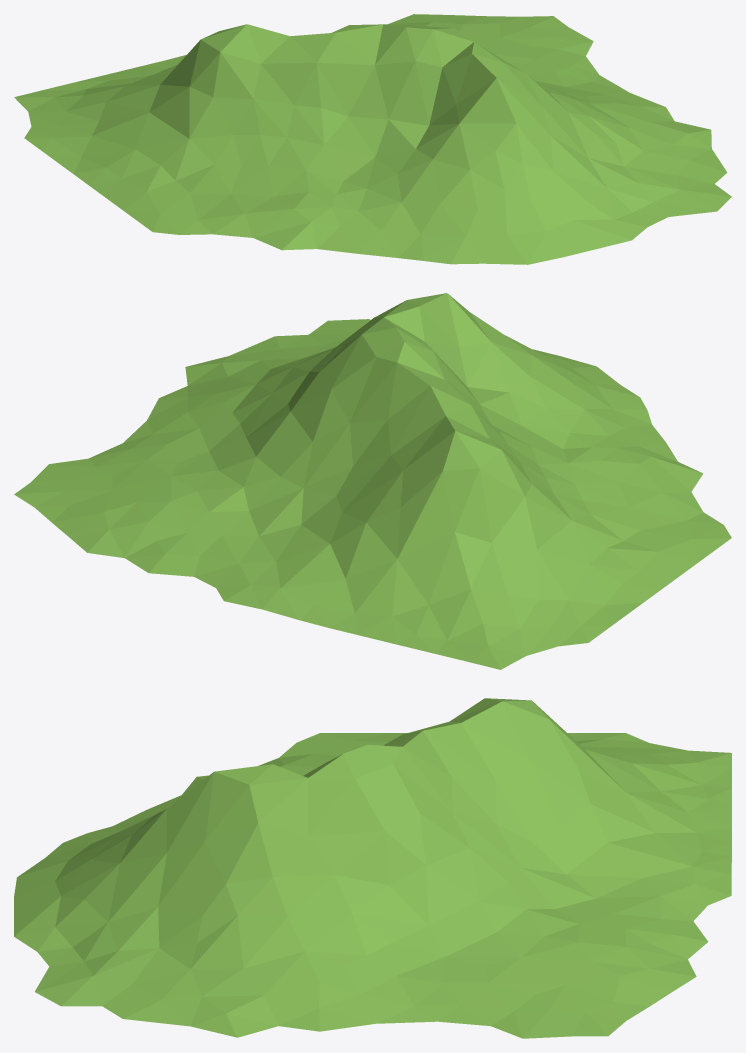
Rendered from MT_Mountain_M_a_17.fbx.
3 views of the same model, one above another, from view 1: azimuth 30°, elevation 25°; view 2: azimuth 150°, elevation 25°; view 3: azimuth 270°, elevation 25° (orthographic). The views are drawn at different scales.
Visible parts, largest first — view 1: MT_Mountain_M_a_17; view 2: MT_Mountain_M_a_17; view 3: MT_Mountain_M_a_17.
Boxes of the visible parts, x1,y1,x2,y2 form: MT_Mountain_M_a_17: (14, 14, 731, 264); MT_Mountain_M_a_17: (14, 293, 731, 669); MT_Mountain_M_a_17: (14, 698, 731, 1038).
Size of the model in its own units: 4805 by 1095 by 4766.
